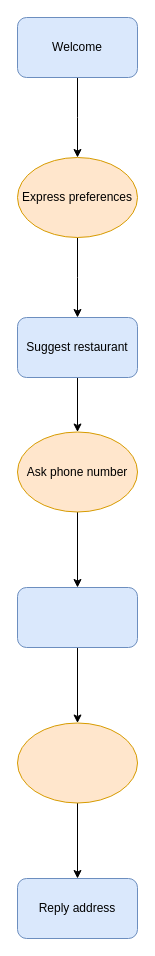
Some shapes in this 155 by 956 pixel diagram are drawn without their labels. Here are the shapes that lost their labels. From the top down, the centre of each, then its label:
the point at 77,617: Reply phone number
the point at 77,762: Ask address
